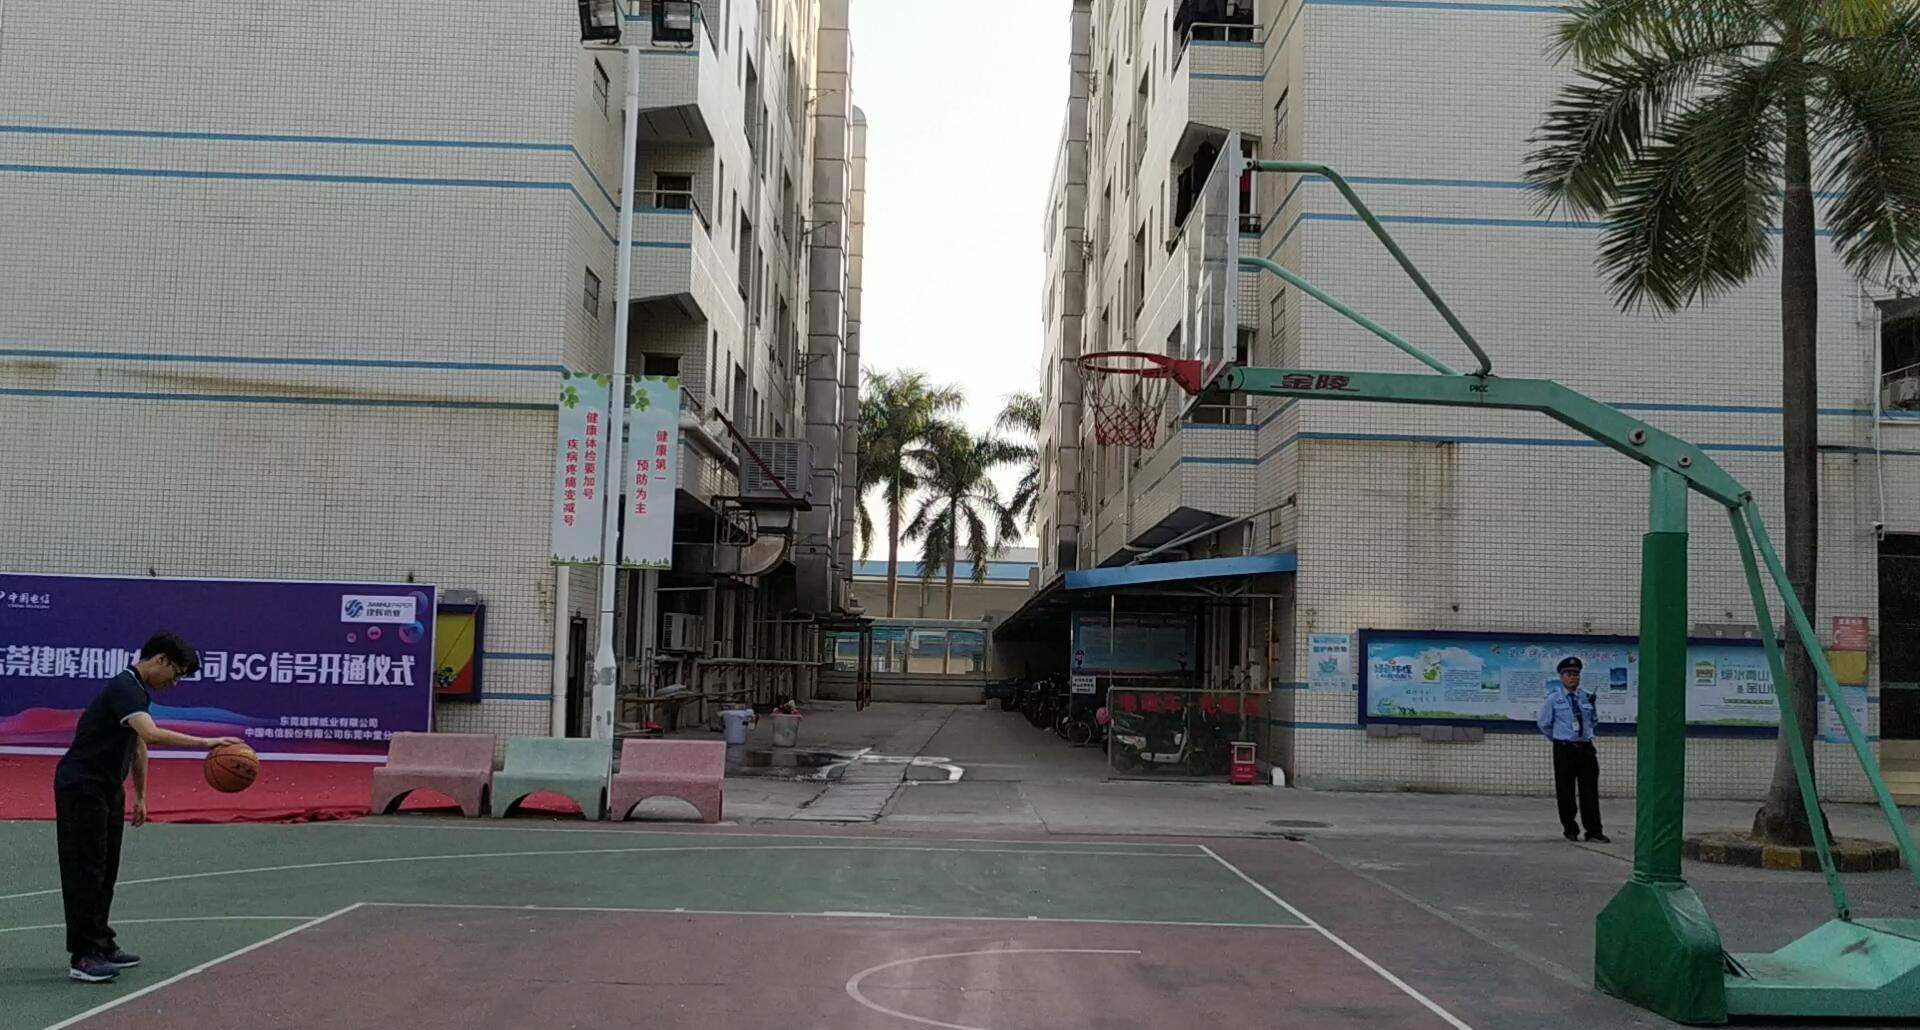basketball: (199, 739, 262, 795)
